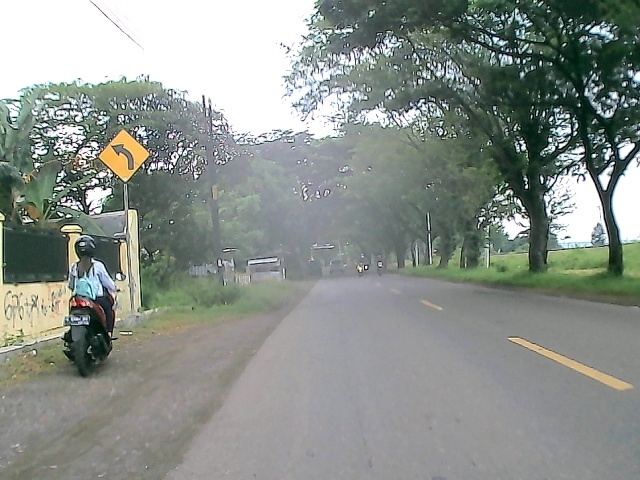Tikungan ke kiri: (96, 128, 152, 182)
